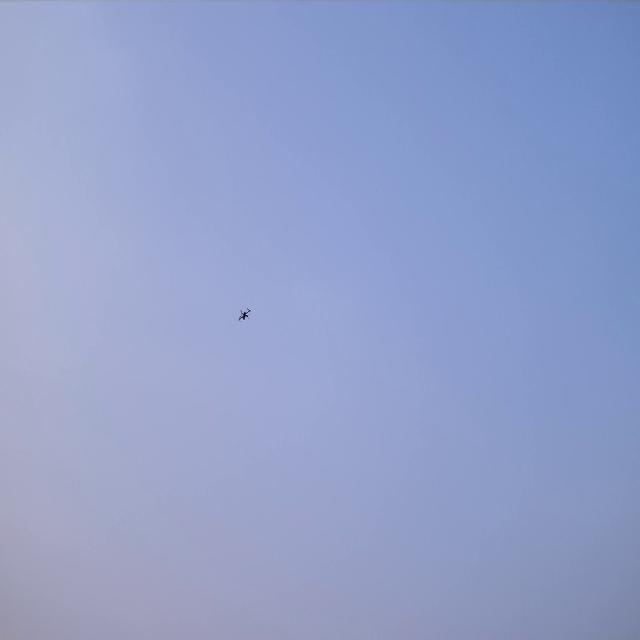UAV: (237, 307, 251, 323)
